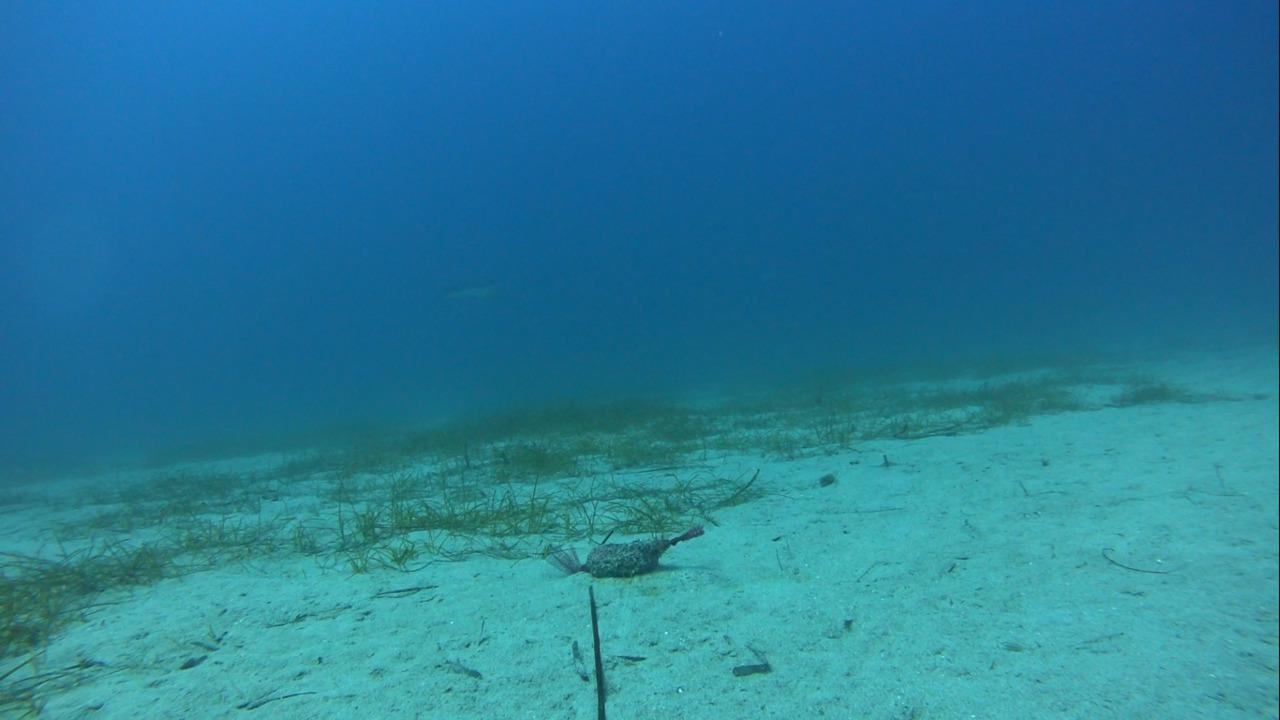myliobatis: (438, 260, 523, 306)
